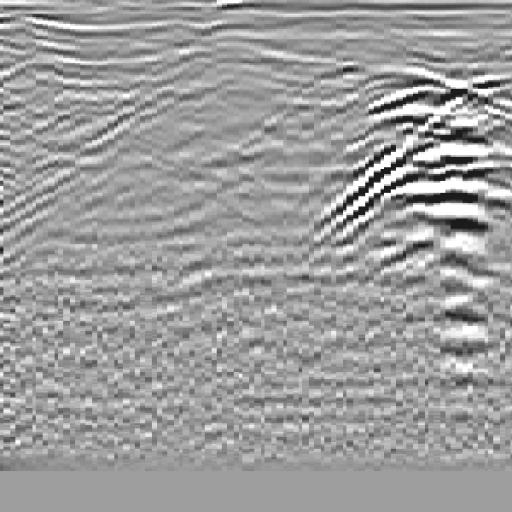metalic: (316, 38, 512, 385)
